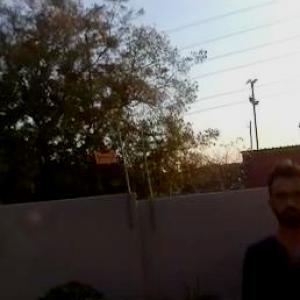follow: (236, 156, 300, 299)
